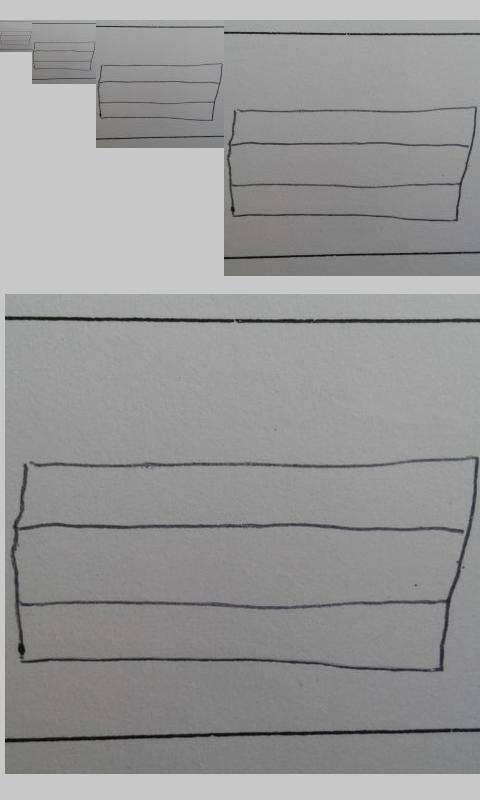list_view: (8, 457, 480, 675), (227, 107, 478, 223), (98, 63, 223, 123), (33, 40, 96, 72), (1, 30, 32, 46)
